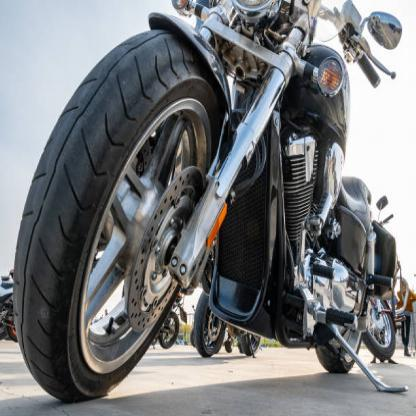Motorcycle: (13, 1, 415, 402)
